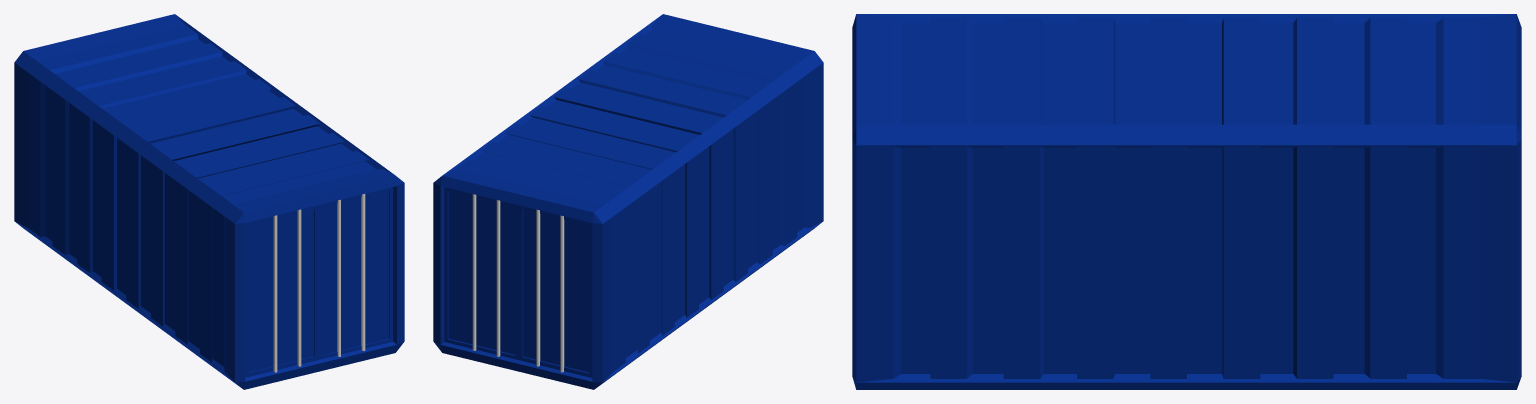
The model's file is container.fbx.
The picture shows the model from 3 angles, left to right: view 1: azimuth 30°, elevation 25°; view 2: azimuth 150°, elevation 25°; view 3: azimuth 270°, elevation 25°; orthographic projection. The views are drawn at different scales.
Parts seen in each view (by area): view 1: container, tubes; view 2: container, tubes; view 3: container.
Boxes of the visible parts, box(x1,y1,x2,y2) form: container: box(14, 14, 404, 389); tubes: box(273, 194, 365, 372); container: box(433, 14, 823, 389); tubes: box(472, 194, 564, 372); container: box(852, 14, 1521, 389).
Size of the model in its own units: 200 by 200 by 457.
